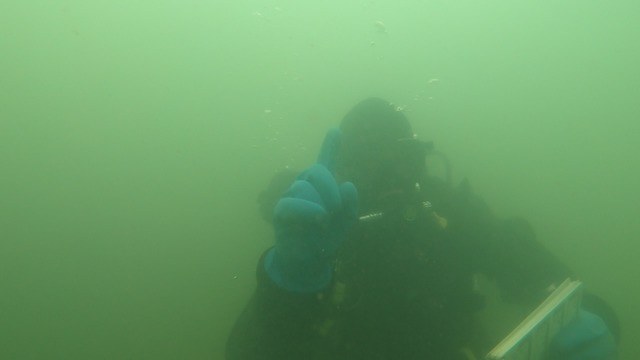Hand: (253, 163, 369, 299)
Head: (322, 95, 448, 228)
